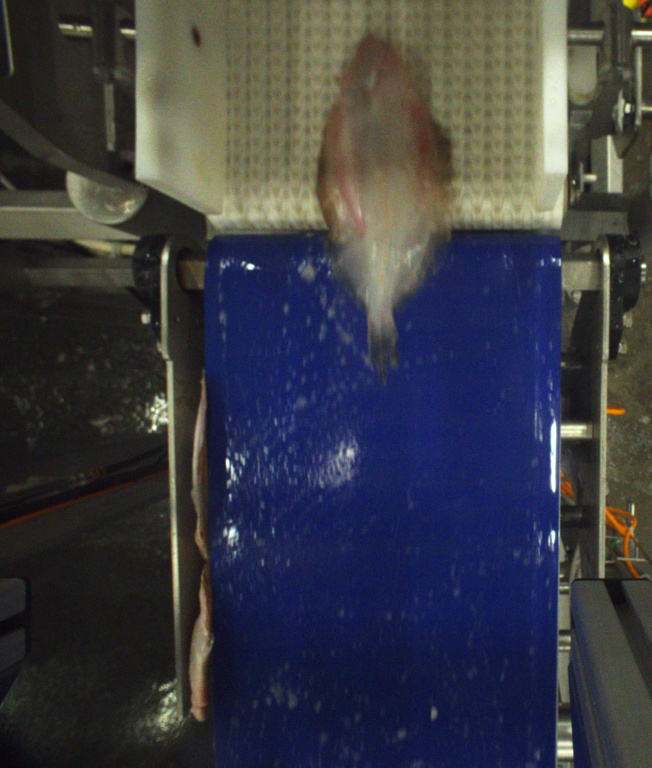WIT: (318, 31, 450, 375)
